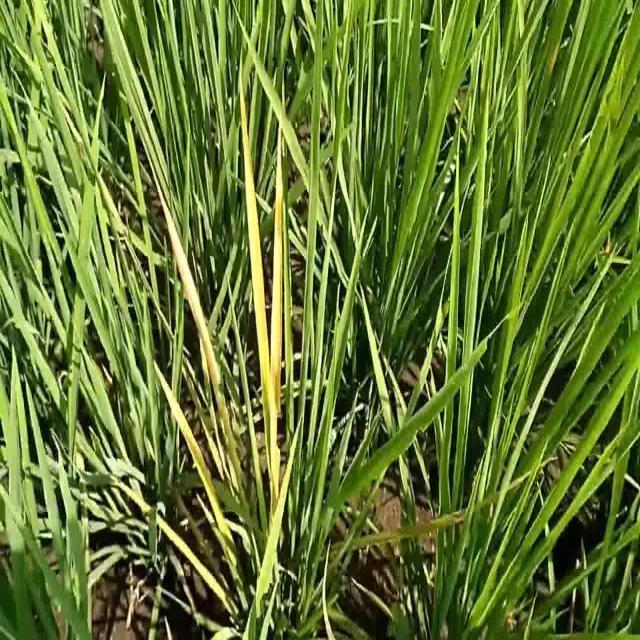Rice Tungro: (97, 462, 233, 618), (154, 184, 232, 435), (149, 351, 234, 545), (237, 40, 271, 418), (268, 74, 286, 388)
